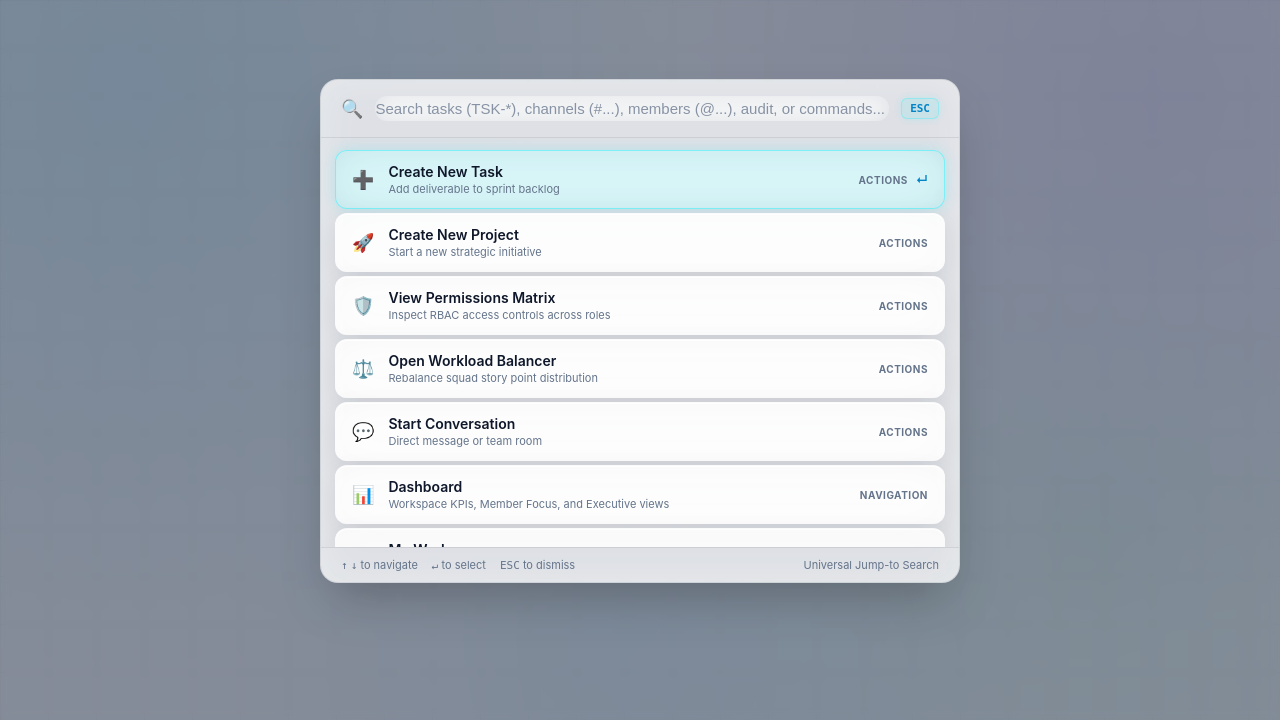
Test: CommandPalette Neumorphic Component › filters command list based on user query
The image size is (1280, 720).
Replace the text in the field with placeholder "Search tasks" with "Chat": (632, 109) [376,96,889,121]
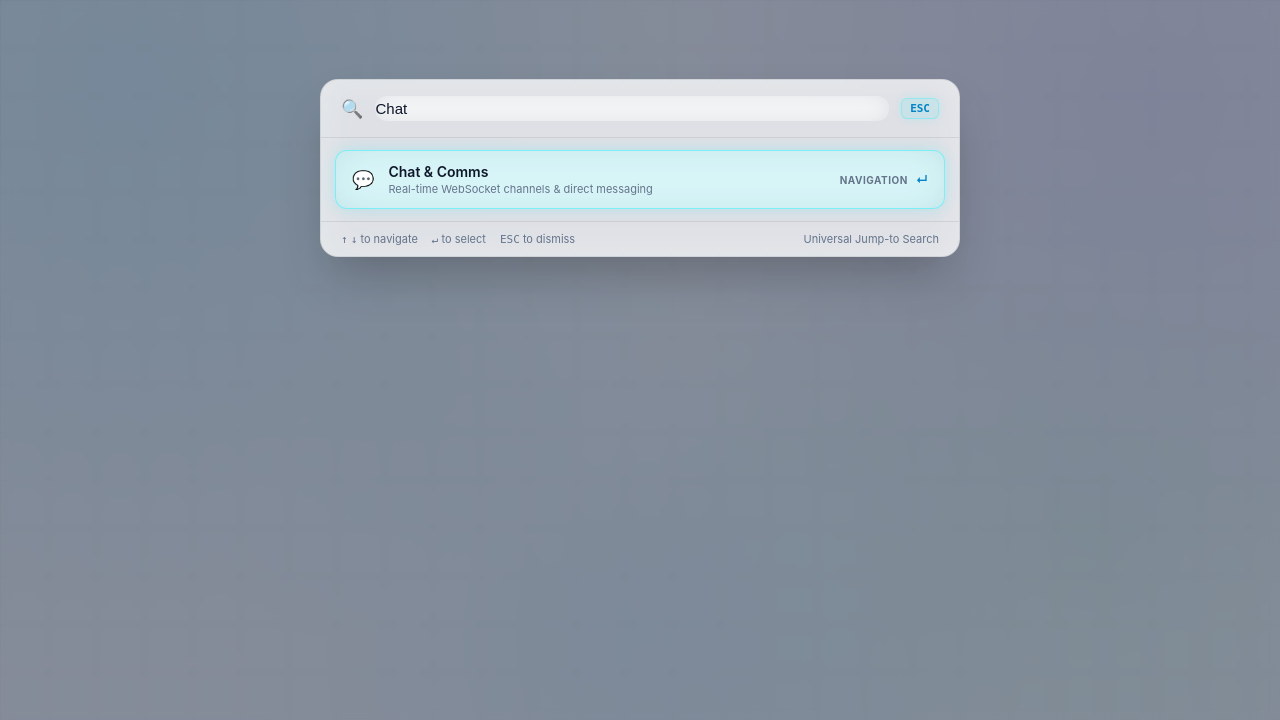
Expected: the text "Chat & Comms" is shown, [388,163,488,180]
Expected: the text "Create New Project" is gone
